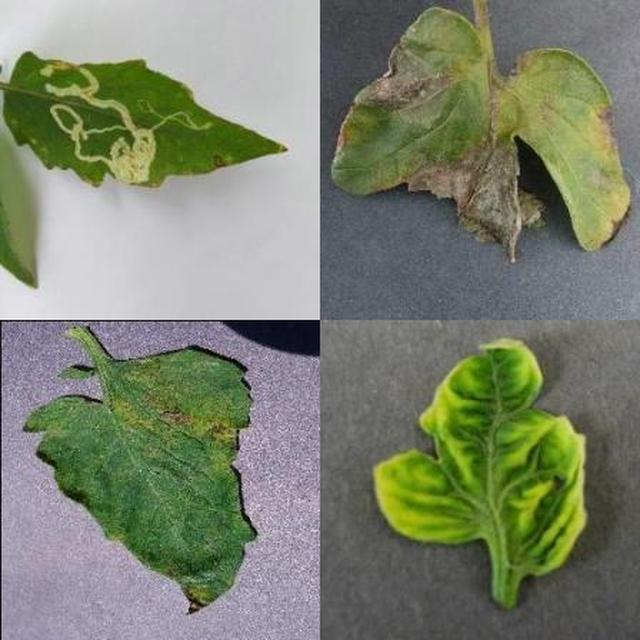Leaf Miner: (198, 172, 640, 640)
